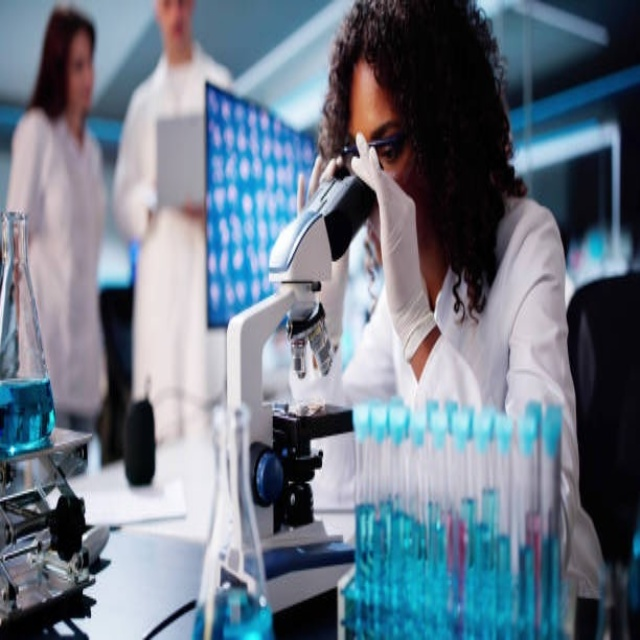Gafas: (339, 126, 410, 170)
Guantes: (351, 129, 435, 362), (290, 159, 352, 343)
